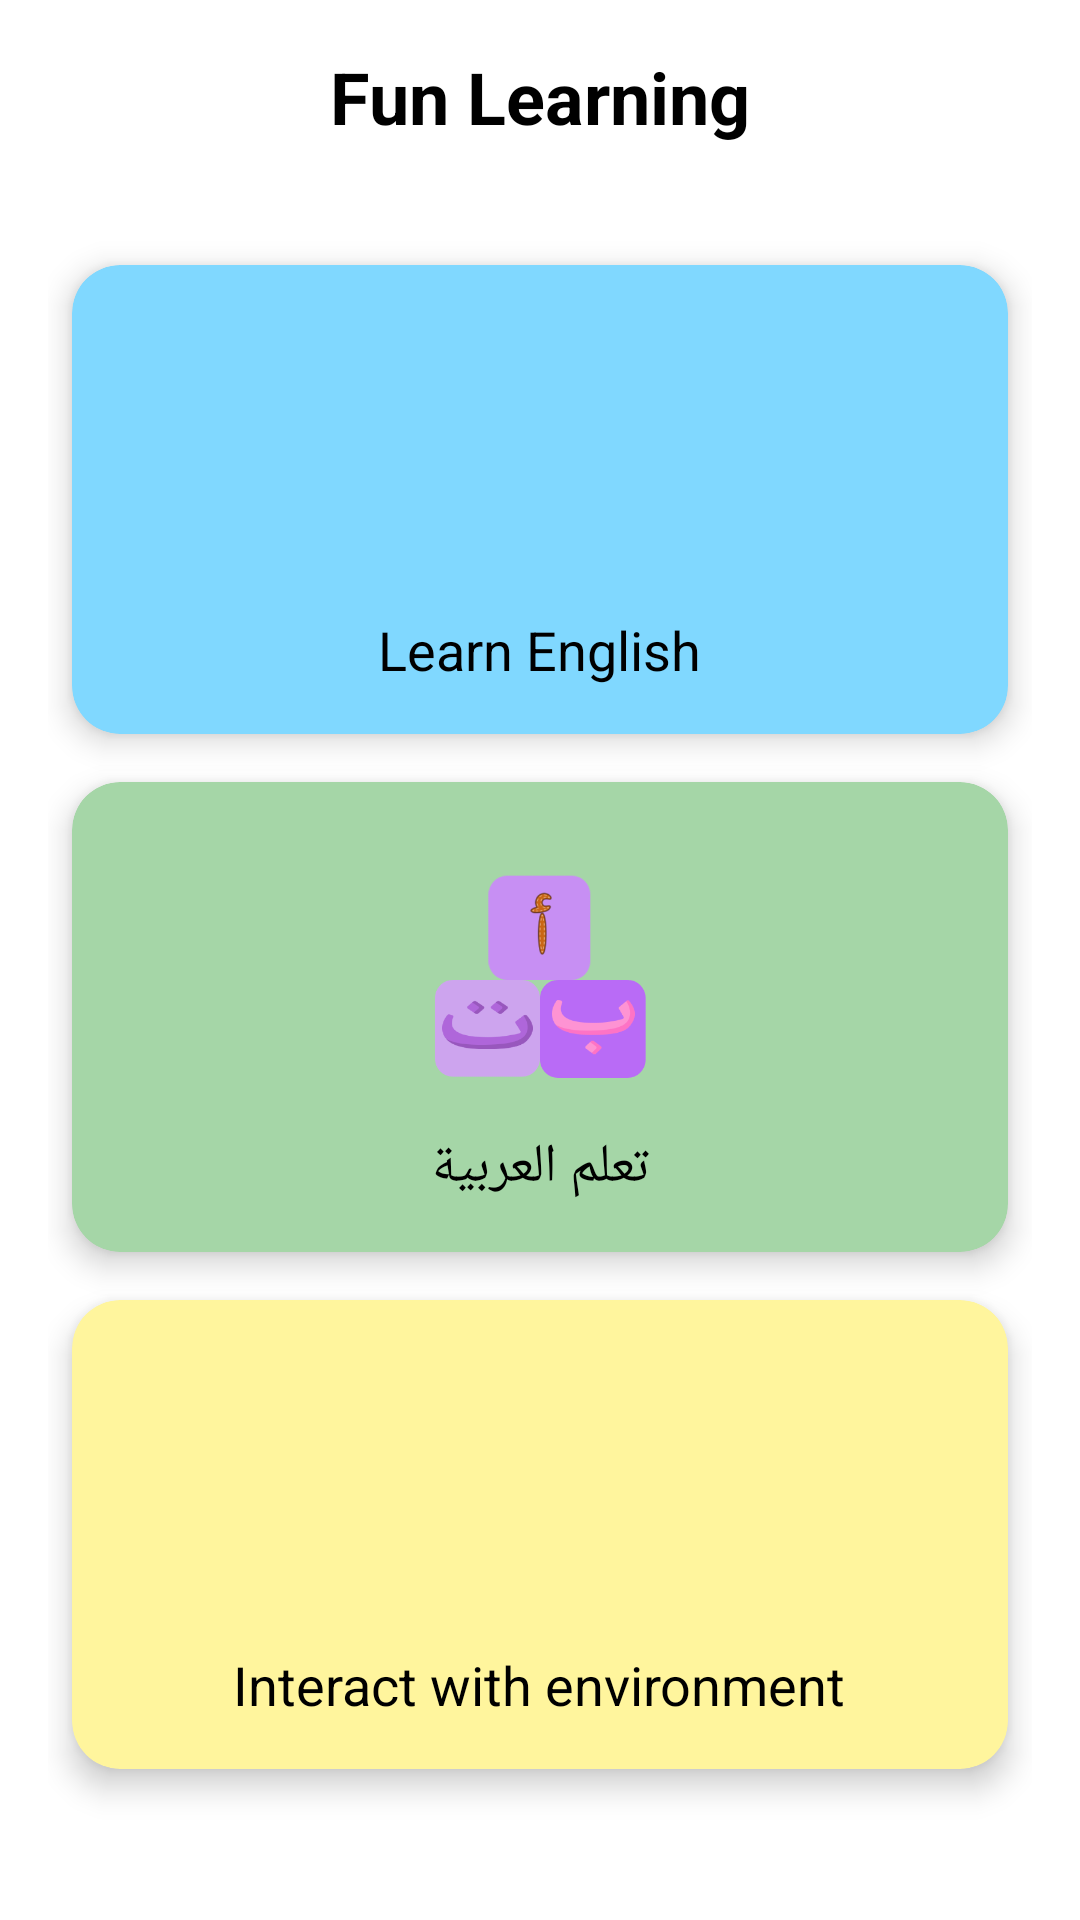

Icon click points for this 1080 × 1920 phone screenshot, format (x=x, y=y):
arabic: (x=540, y=976)
